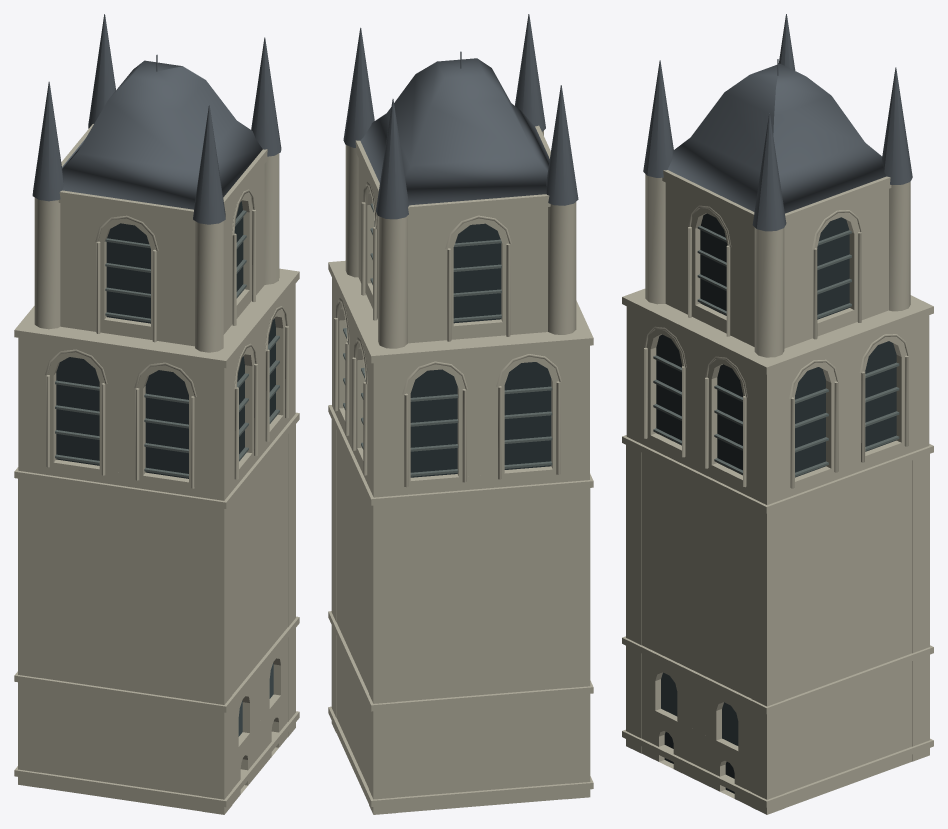
The model's file is tour-saint-aubin-angers-far.glb.
3 views of the same model, side by side, from view 1: azimuth 30°, elevation 25°; view 2: azimuth 150°, elevation 25°; view 3: azimuth 270°, elevation 25° (orthographic). The views are drawn at different scales.
Visible parts, largest first — view 1: tour-saint-aubin-angers-0-plaster, tour-saint-aubin-angers-0-roof, tour-saint-aubin-angers-0-shadow, tour-saint-aubin-angers-0-louvre; view 2: tour-saint-aubin-angers-0-plaster, tour-saint-aubin-angers-0-roof, tour-saint-aubin-angers-0-shadow, tour-saint-aubin-angers-0-louvre; view 3: tour-saint-aubin-angers-0-plaster, tour-saint-aubin-angers-0-roof, tour-saint-aubin-angers-0-shadow, tour-saint-aubin-angers-0-louvre, tour-saint-aubin-angers-0-glass.
Part boxes in pixels (x1=…): tour-saint-aubin-angers-0-plaster: x1=14, y1=124, x2=299, y2=814; tour-saint-aubin-angers-0-roof: x1=32, y1=14, x2=281, y2=224; tour-saint-aubin-angers-0-shadow: x1=56, y1=201, x2=275, y2=478; tour-saint-aubin-angers-0-louvre: x1=55, y1=210, x2=279, y2=477; tour-saint-aubin-angers-0-plaster: x1=328, y1=125, x2=593, y2=814; tour-saint-aubin-angers-0-roof: x1=343, y1=14, x2=578, y2=219; tour-saint-aubin-angers-0-shadow: x1=347, y1=221, x2=551, y2=477; tour-saint-aubin-angers-0-louvre: x1=343, y1=203, x2=552, y2=476; tour-saint-aubin-angers-0-plaster: x1=622, y1=170, x2=933, y2=814; tour-saint-aubin-angers-0-roof: x1=643, y1=14, x2=912, y2=231; tour-saint-aubin-angers-0-shadow: x1=656, y1=213, x2=896, y2=793; tour-saint-aubin-angers-0-louvre: x1=653, y1=225, x2=899, y2=476; tour-saint-aubin-angers-0-glass: x1=661, y1=672, x2=738, y2=745.
Size of the model in its own units: 22.08 by 54 by 22.08.
